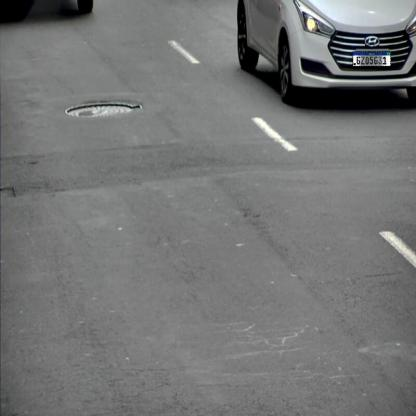PlacaM: (353, 51, 391, 67)
